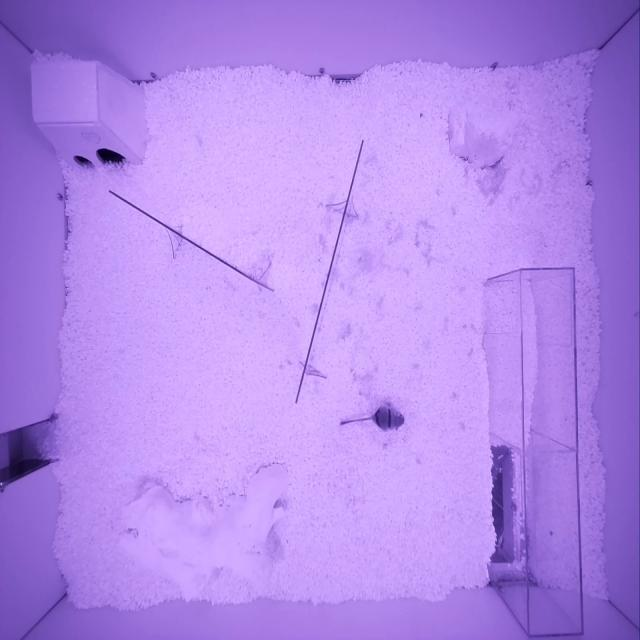pup_h_stripe: (372, 403, 404, 431)
